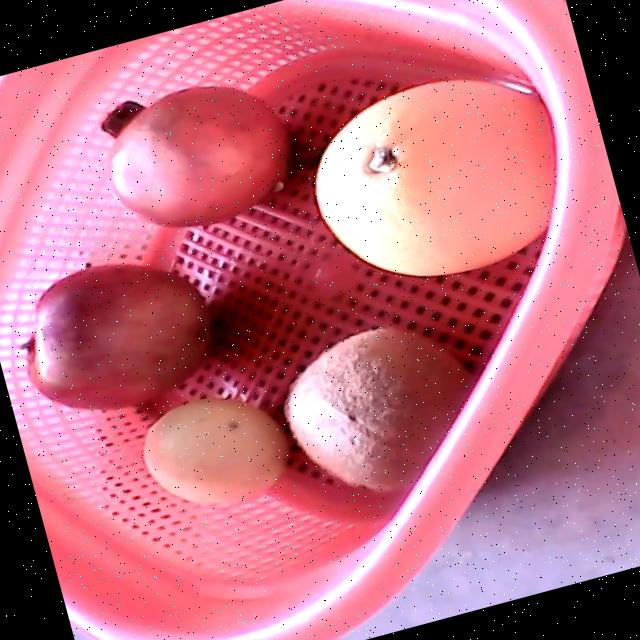apple: (19, 262, 212, 409)
kiwi: (285, 325, 475, 490)
lemon: (143, 395, 289, 502)
orange: (314, 79, 557, 276)
pomegranate: (100, 84, 290, 226)
